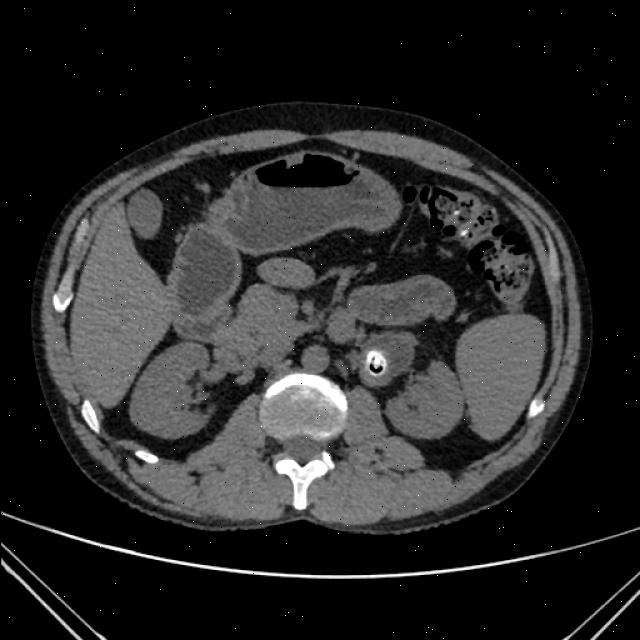kidneystone: (364, 350, 388, 377)
